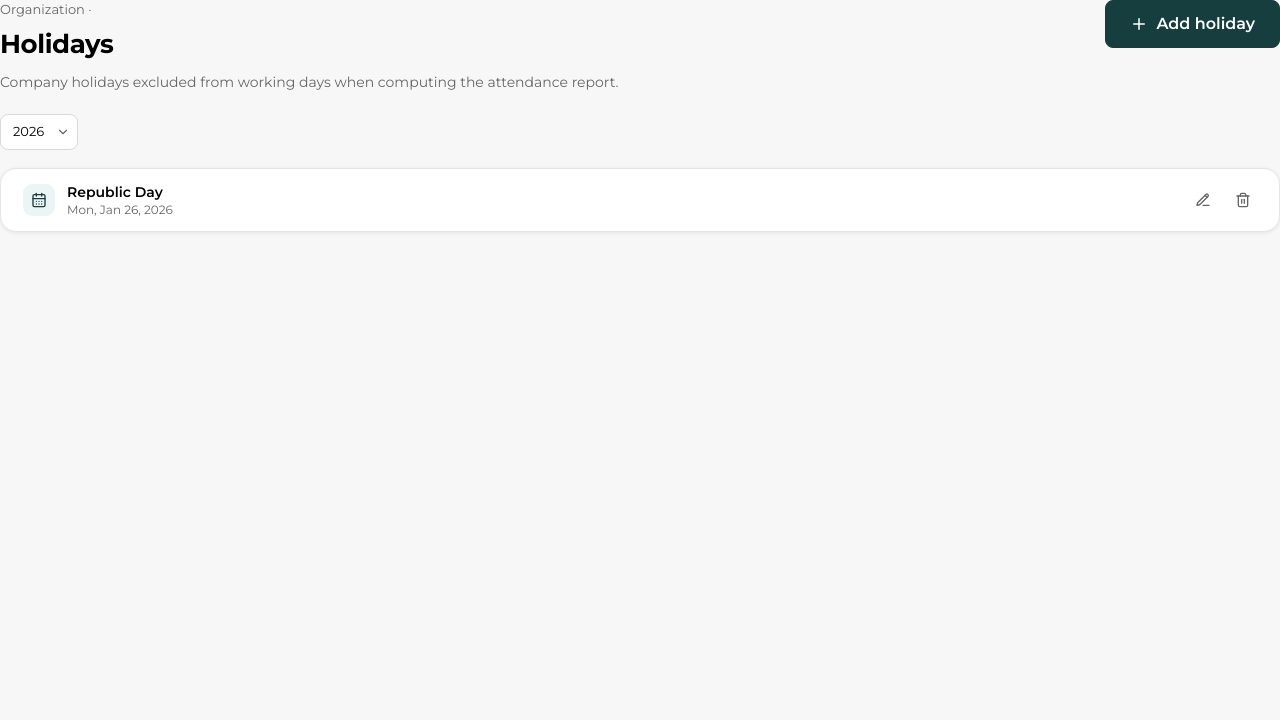
Test case: deleting a holiday confirms, deletes, and toasts
The image size is (1280, 720).
Check: the text "Republic Day" is shown, box [67,182,163,200]
Click the button named "Delete Republic Day" at (1243, 200), box [1229,186,1257,214]
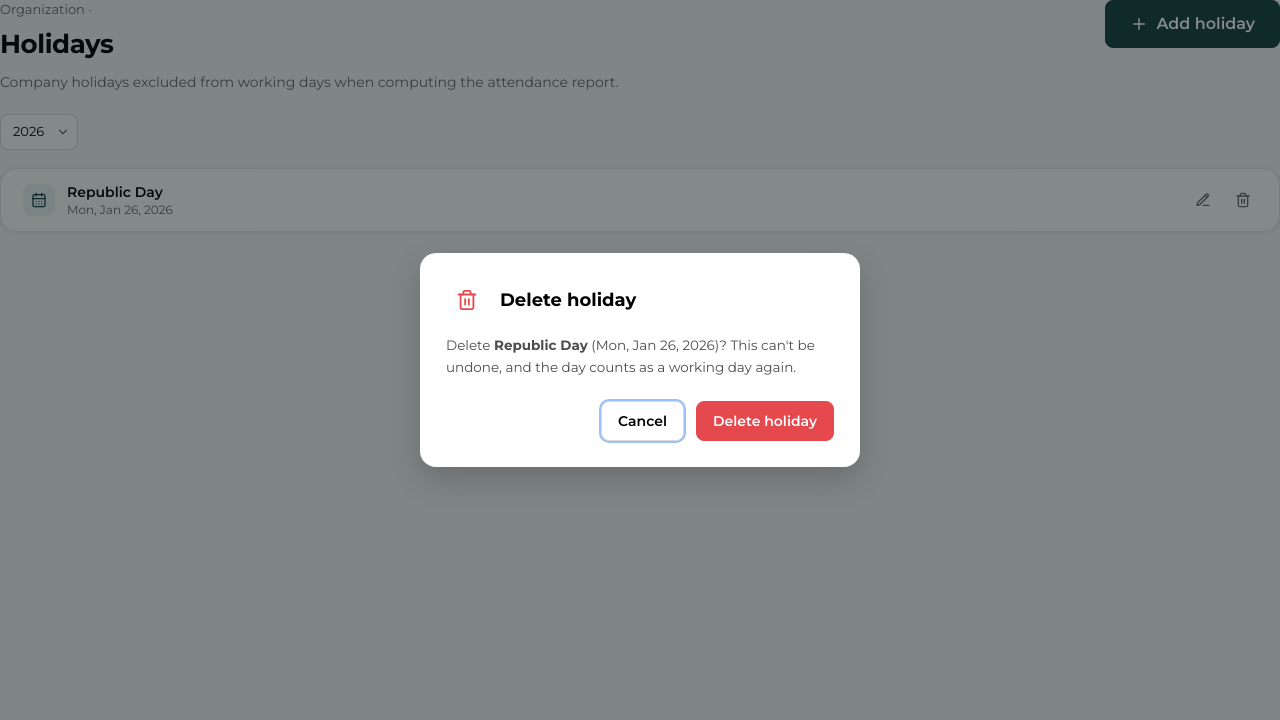
Click the button "Delete holiday" at (765, 421), box [696,401,834,441]
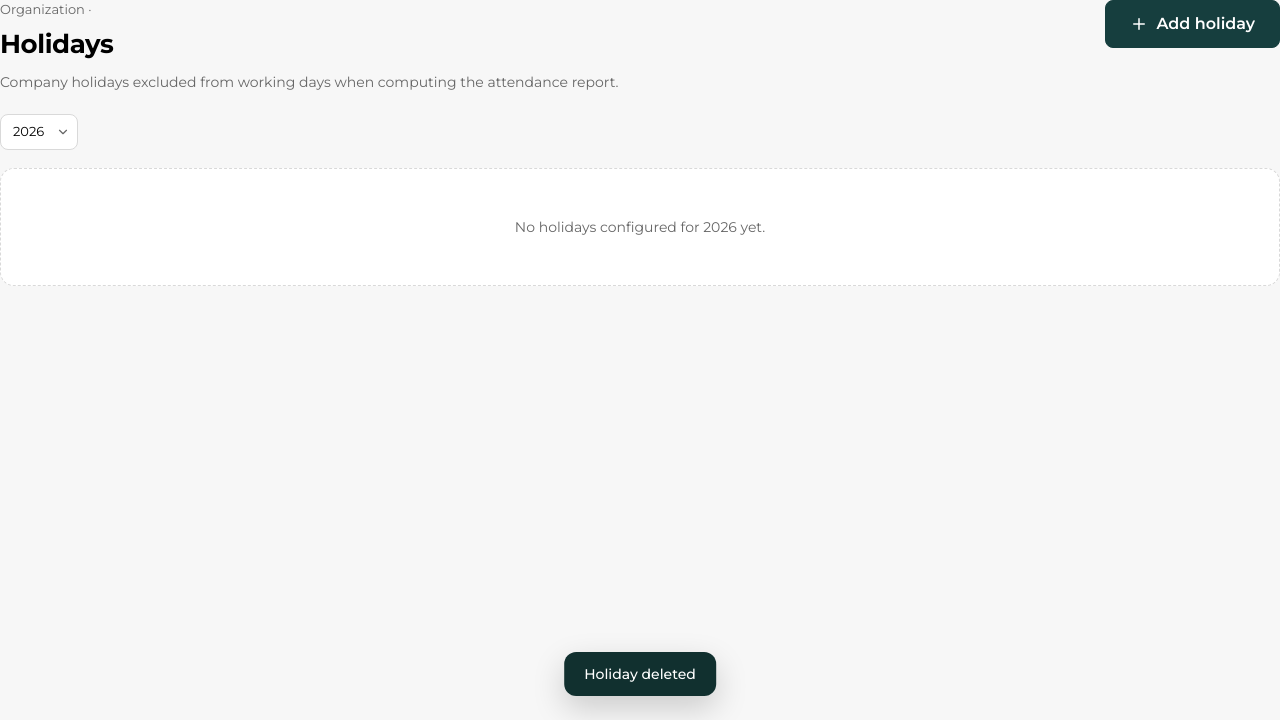
Check: the text "Holiday deleted" is shown, box [564,652,716,696]
